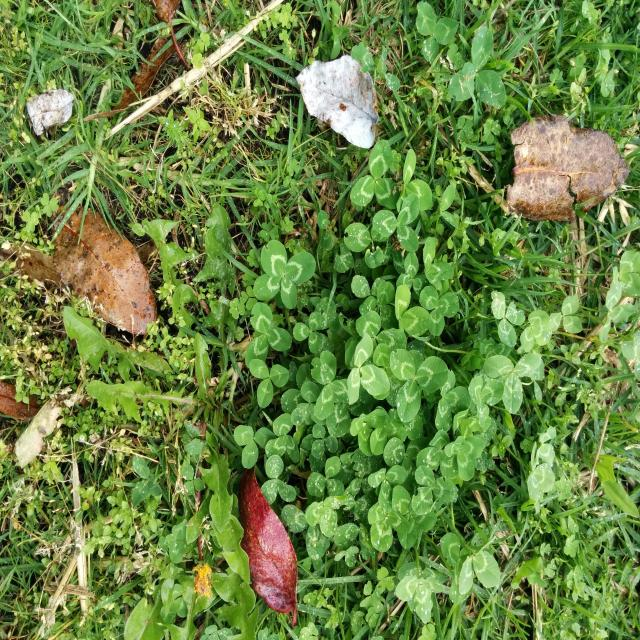Four Leaf Clover: (253, 241, 315, 309)
